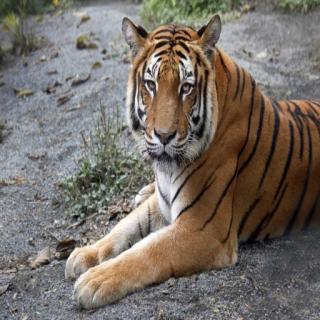Tiger: (60, 15, 320, 312)
